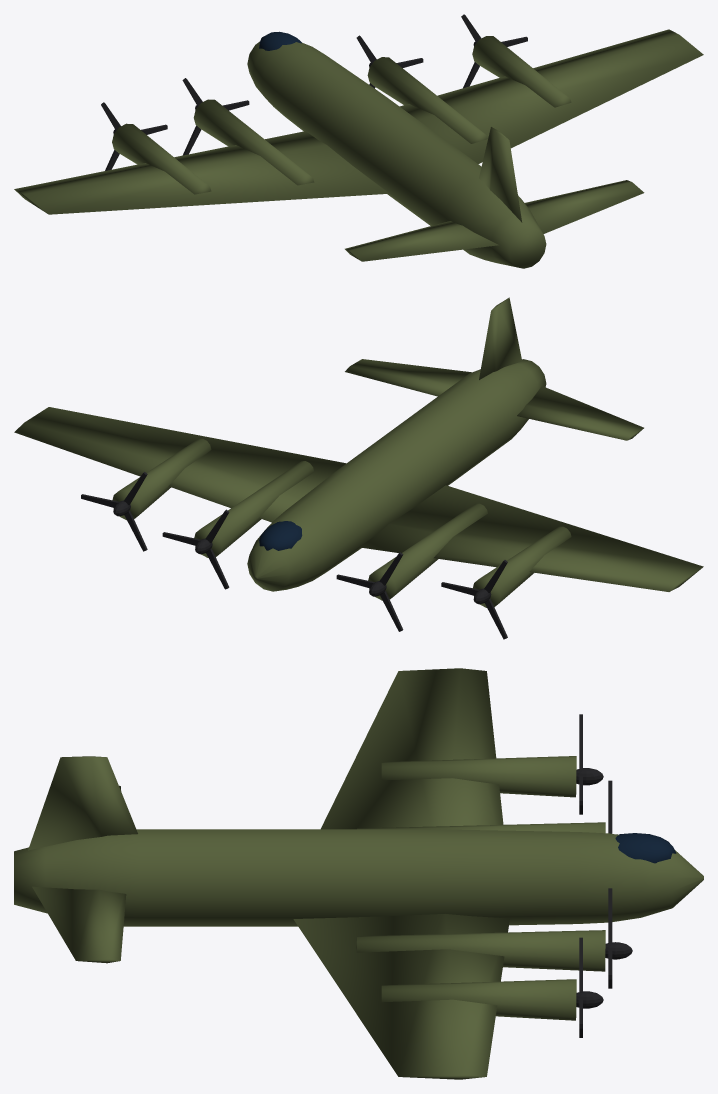
3 renders of one model, top to bottom at view 1: azimuth 30°, elevation 25°; view 2: azimuth 150°, elevation 25°; view 3: azimuth 270°, elevation 25°, orthographic. The views are drawn at different scales.
Parts seen in each view (by area): view 1: Body, Detail, Canopy; view 2: Body, Detail, Canopy; view 3: Body, Detail, Canopy.
Part boxes in pixels (x1=…): Body: x1=14, y1=29, x2=703, y2=268; Detail: x1=101, y1=14, x2=527, y2=170; Canopy: x1=259, y1=31, x2=301, y2=50; Body: x1=14, y1=297, x2=703, y2=607; Detail: x1=81, y1=472, x2=507, y2=639; Canopy: x1=259, y1=521, x2=302, y2=550; Body: x1=14, y1=668, x2=703, y2=1079; Detail: x1=576, y1=714, x2=632, y2=1037; Canopy: x1=615, y1=833, x2=676, y2=863.
Bounding box in the file's own units: 31.6 × 6.89 × 22.7.
